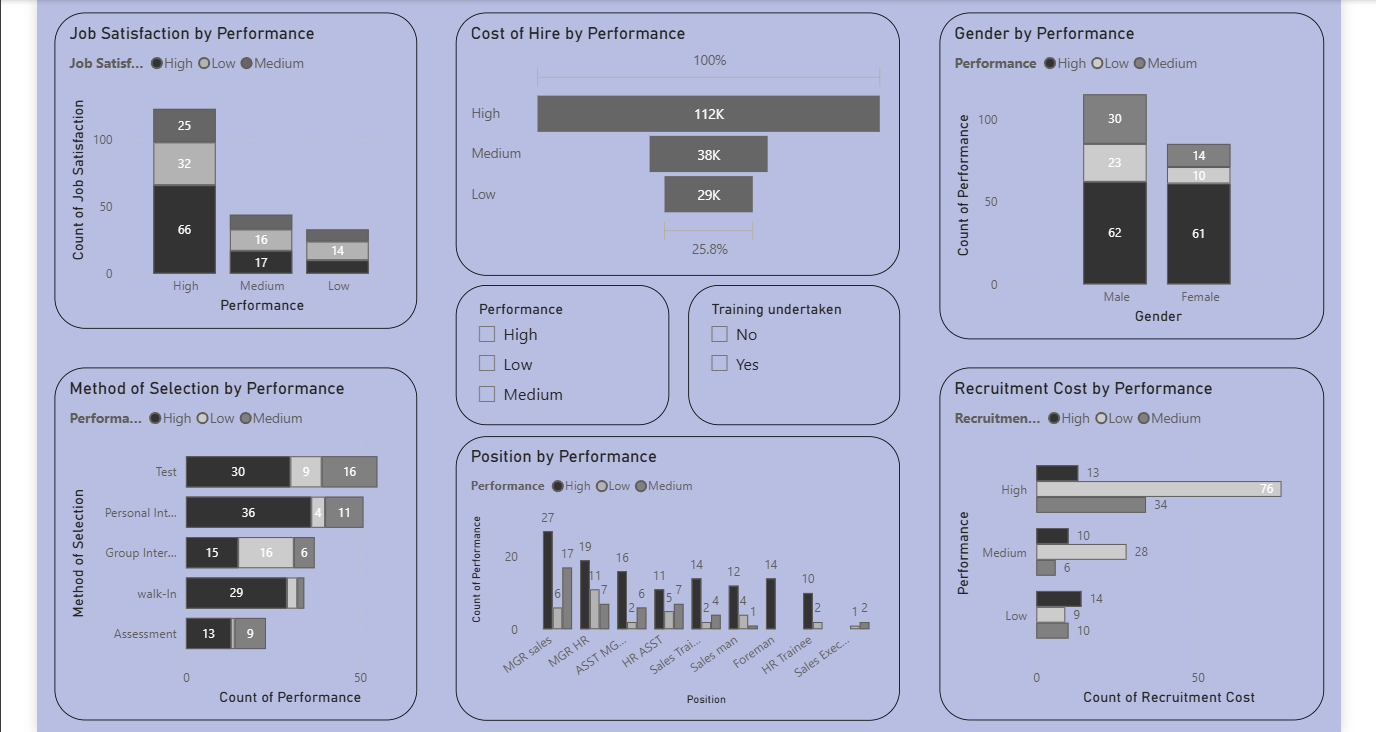

Layout of this report page (visuals, bound fields, positions):
{"tool":"powerbi","page":{"name":"Performance","canvas":[1280,720],"ordinal":0},"visuals":[{"type":"columnChart","title":"Job Satisfaction by Performance","fields":{"Category":["Master Sheet.Performance"],"Y":["CountNonNull(Master Sheet.Job Satisfaction)"],"Series":["Master Sheet.Job Satisfaction"]},"box":[17.4,12.8,355.8,310.5],"z":0},{"type":"barChart","title":"Method of Selection by Performance","fields":{"Y":["CountNonNull(Master Sheet.Performance)"],"Category":["Master Sheet.Method of Selection"],"Series":["Master Sheet.Performance"]},"box":[17.4,360.5,355.8,346.5],"z":1000},{"type":"funnel","title":"Cost of Hire by Performance","fields":{"Category":["Master Sheet.Performance"],"Y":["Sum(Master Sheet.Cost of Hire Per Position Cost (in Rs))"]},"box":[411.6,12.8,436,258.1],"z":2000},{"type":"slicer","fields":{"Values":["Master Sheet.Performance"]},"box":[411.6,280.2,209.3,137.2],"z":3000},{"type":"clusteredBarChart","title":"Recruitment Cost by Performance","fields":{"Category":["Master Sheet.Performance"],"Y":["CountNonNull(Master Sheet.Recruitment Cost )"],"Series":["Master Sheet.Recruitment Cost "]},"box":[886,360.5,377.9,346.5],"z":4000},{"type":"columnChart","title":"Gender by Performance","fields":{"Category":["Master Sheet.Gender"],"Series":["Master Sheet.Performance"],"Y":["CountNonNull(Master Sheet.Performance)"]},"box":[886,12.8,377.9,320.9],"z":5000},{"type":"clusteredColumnChart","title":"Position by Performance","fields":{"Category":["Master Sheet.Position"],"Y":["CountNonNull(Master Sheet.Performance)"],"Series":["Master Sheet.Performance"]},"box":[411.6,427.9,436,279.1],"z":6000},{"type":"slicer","fields":{"Values":["Master Sheet.Training undertaken"]},"box":[639.5,280.2,208.1,137.2],"z":7000}]}

Visuals, with their boxes in screenshot pixels (x1, y1, x2, y2):
"Job Satisfaction by Performance" columnChart: {"left": 60, "top": 13, "right": 417, "bottom": 324}
"Method of Selection by Performance" barChart: {"left": 60, "top": 361, "right": 417, "bottom": 708}
"Cost of Hire by Performance" funnel: {"left": 455, "top": 13, "right": 892, "bottom": 271}
slicer - Master Sheet.Performance: {"left": 455, "top": 281, "right": 665, "bottom": 418}
"Recruitment Cost by Performance" clusteredBarChart: {"left": 930, "top": 361, "right": 1308, "bottom": 708}
"Gender by Performance" columnChart: {"left": 930, "top": 13, "right": 1308, "bottom": 334}
"Position by Performance" clusteredColumnChart: {"left": 455, "top": 428, "right": 892, "bottom": 708}
slicer - Master Sheet.Training undertaken: {"left": 683, "top": 281, "right": 892, "bottom": 418}
